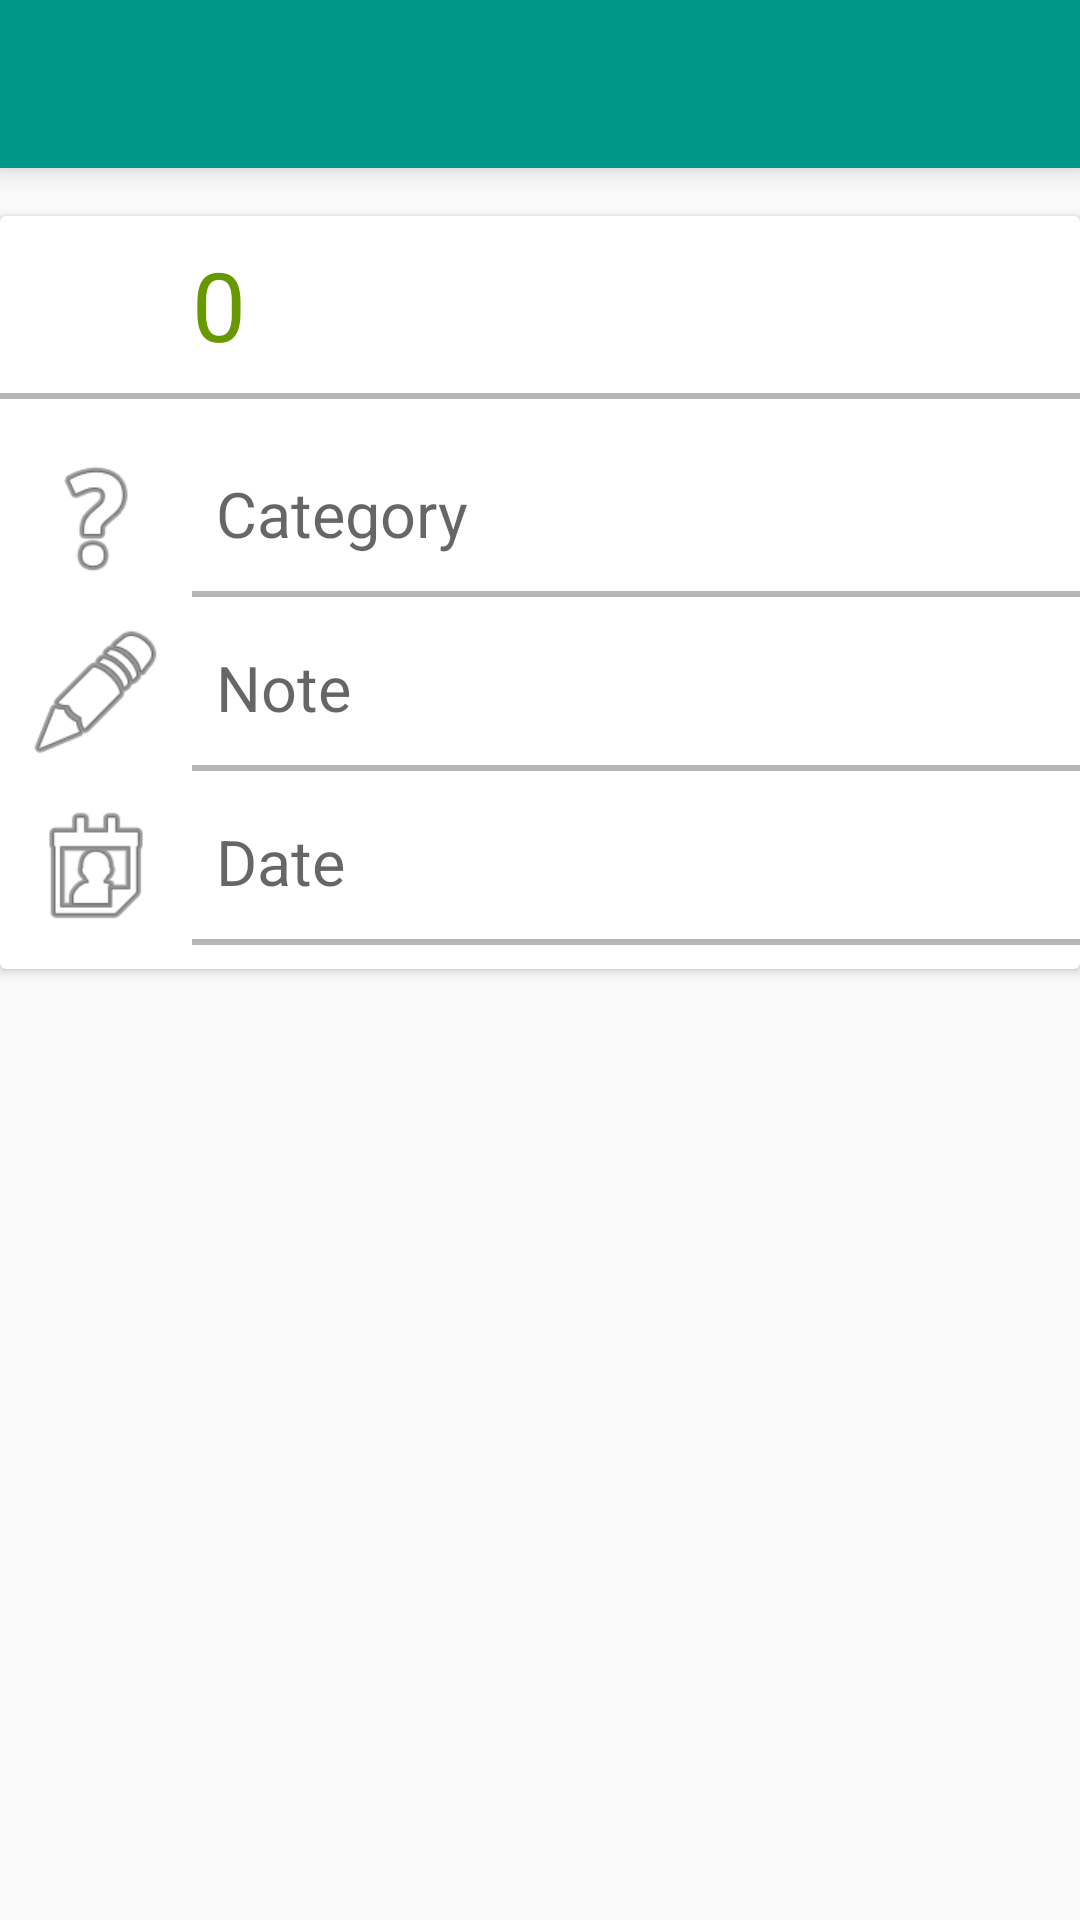

Locate icon controls on the screen. Image size 1080 × 1920, boxes as (x1, y1, x2, y2).
calendar: (49, 813, 143, 918)
edit: (34, 631, 156, 753)
help: (64, 467, 128, 571)
